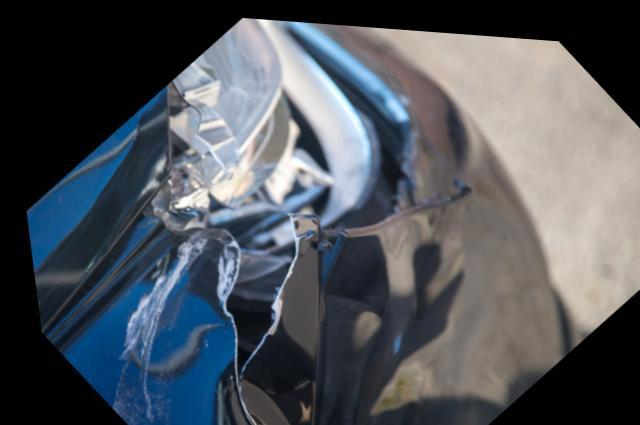crack: (213, 210, 291, 425)
dent: (229, 226, 414, 425)
lamp broken: (157, 14, 341, 219)
scratch: (97, 235, 204, 425)
